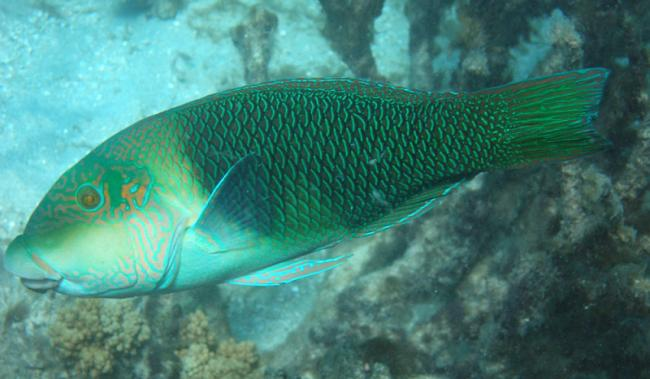fish: (2, 65, 613, 300)
